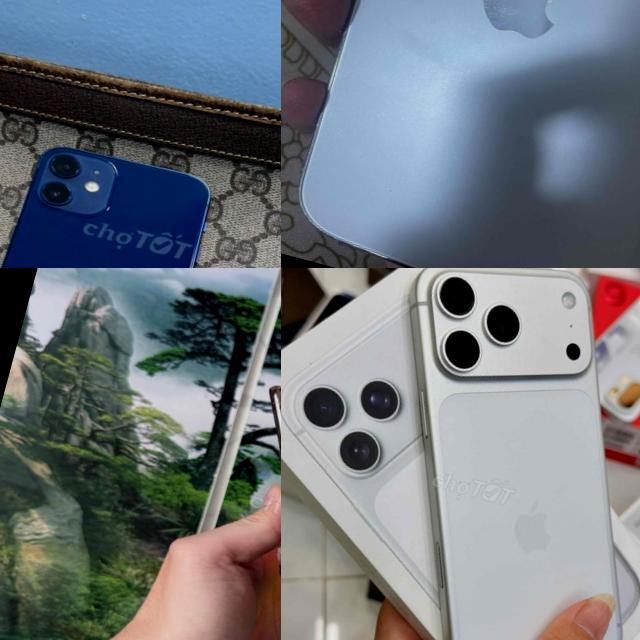scratch: (317, 268, 640, 640)
